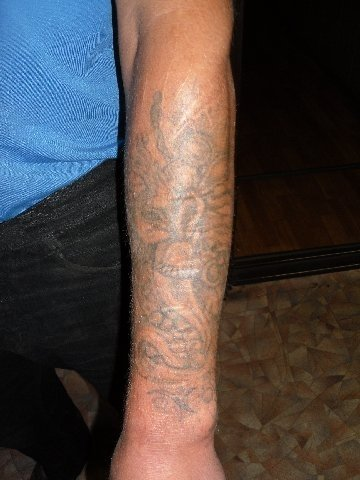tatu6_drakon: (122, 70, 245, 428)
